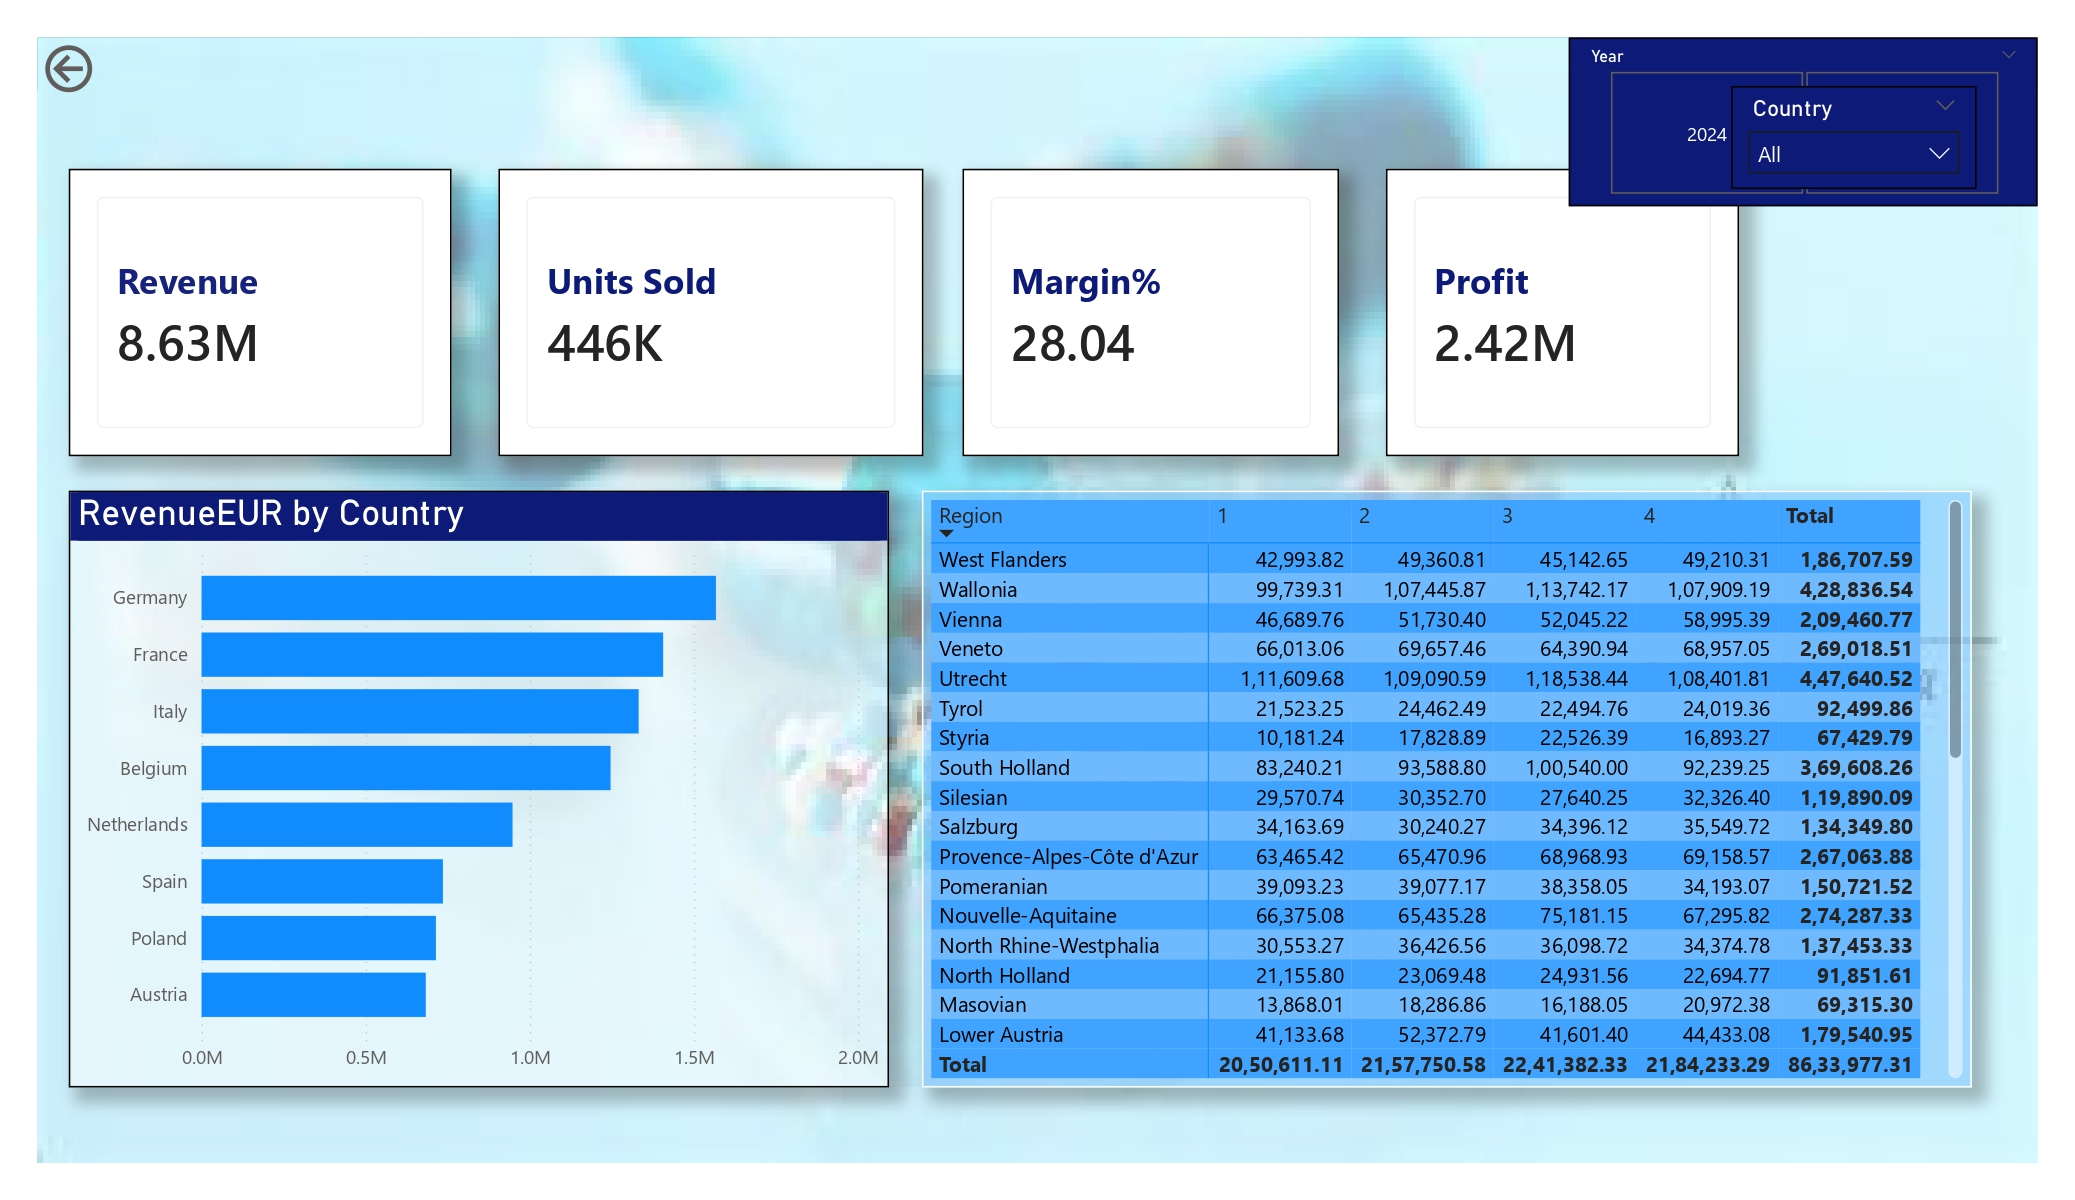

Layout of this report page (visuals, bound fields, positions):
{"tool":"powerbi","page":{"name":"By Country (Drill)","canvas":[1280,720],"ordinal":2},"visuals":[{"type":"cardVisual","fields":{"Data":["Sum(FactSales.RevenueEUR)"]},"box":[19.7,84,244.9,184.1],"z":0},{"type":"cardVisual","fields":{"Data":["Sum(FactSales.UnitsSold)"]},"box":[295,84,271.7,184.1],"z":1000},{"type":"pivotTable","fields":{"Rows":["T_DimPharmacy.Region"],"Values":["Sum(FactSales.RevenueEUR)"],"Columns":["T_DimDate.Quarter"]},"box":[566.1,289.8,672.2,382.4],"z":2000},{"type":"clusteredBarChart","title":"RevenueEUR by Country","fields":{"Category":["T_DimPharmacy.Country"],"Y":["Sum(FactSales.RevenueEUR)"]},"box":[19.7,289.6,525.6,382.6],"z":3000},{"type":"cardVisual","fields":{"Data":["Data Dictionary.Margin%"]},"box":[591.7,84,241.3,184.1],"z":4000},{"type":"cardVisual","fields":{"Data":["T_DimPharmacy.Profit"]},"box":[863.5,84,225.3,184.1],"z":5000},{"type":"actionButton","box":[0,0,100,40],"z":6000},{"type":"slicer","fields":{"Values":["DimDate.Year"]},"box":[979.9,0,300.2,107.6],"z":7000},{"type":"slicer","fields":{"Values":["T_DimPharmacy.Country"]},"box":[1084.5,31.4,156.8,65.7],"z":7001}]}

Visuals, with their boxes in screenshot pixels (x1, y1, x2, y2):
cardVisual - Sum(FactSales.RevenueEUR): {"left": 68, "top": 169, "right": 451, "bottom": 456}
cardVisual - Sum(FactSales.UnitsSold): {"left": 498, "top": 169, "right": 923, "bottom": 456}
pivotTable - T_DimPharmacy.Region x Sum(FactSales.RevenueEUR): {"left": 922, "top": 490, "right": 1972, "bottom": 1088}
"RevenueEUR by Country" clusteredBarChart: {"left": 68, "top": 490, "right": 890, "bottom": 1088}
cardVisual - Data Dictionary.Margin%: {"left": 962, "top": 169, "right": 1339, "bottom": 456}
cardVisual - T_DimPharmacy.Profit: {"left": 1387, "top": 169, "right": 1739, "bottom": 456}
actionButton: {"left": 38, "top": 38, "right": 194, "bottom": 100}
slicer - DimDate.Year: {"left": 1569, "top": 38, "right": 2038, "bottom": 206}
slicer - T_DimPharmacy.Country: {"left": 1732, "top": 87, "right": 1977, "bottom": 189}
